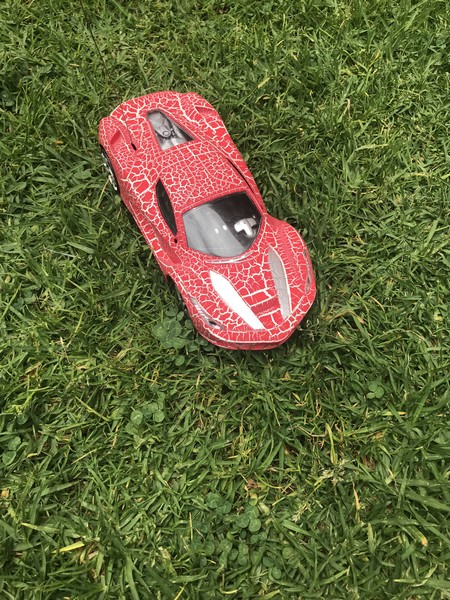RC: (94, 87, 322, 354)
